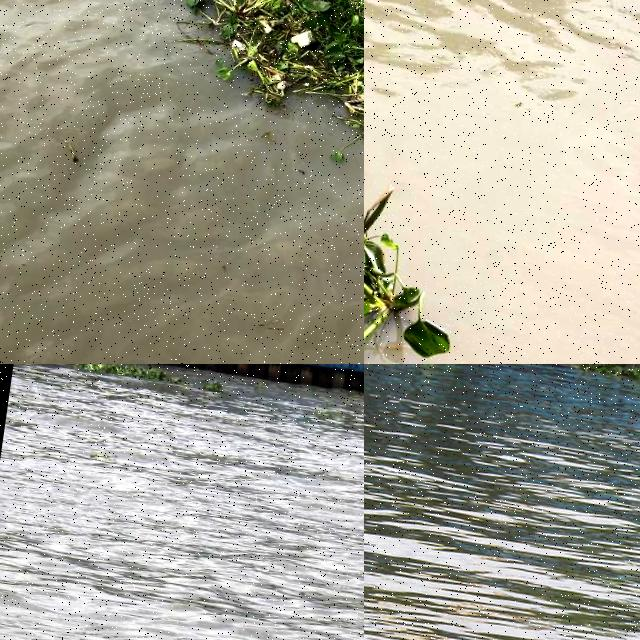water-hyacinth: (118, 1, 365, 214), (365, 191, 459, 365), (77, 364, 223, 396), (575, 365, 640, 390)
